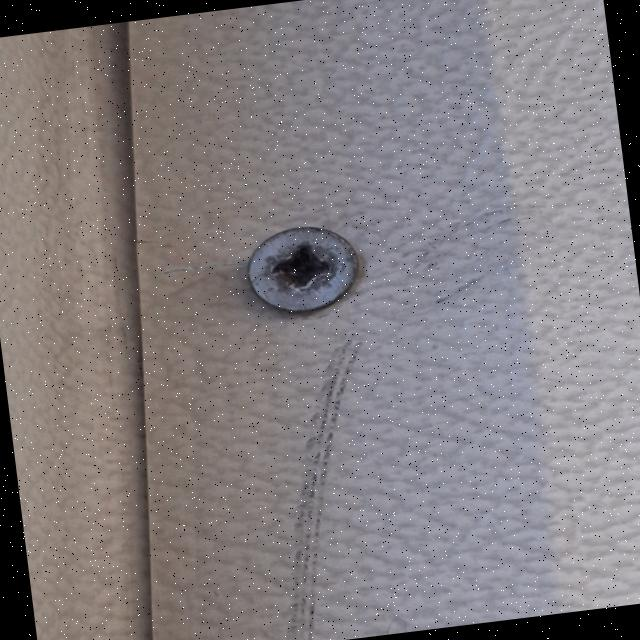Phillips: (242, 217, 364, 319)
